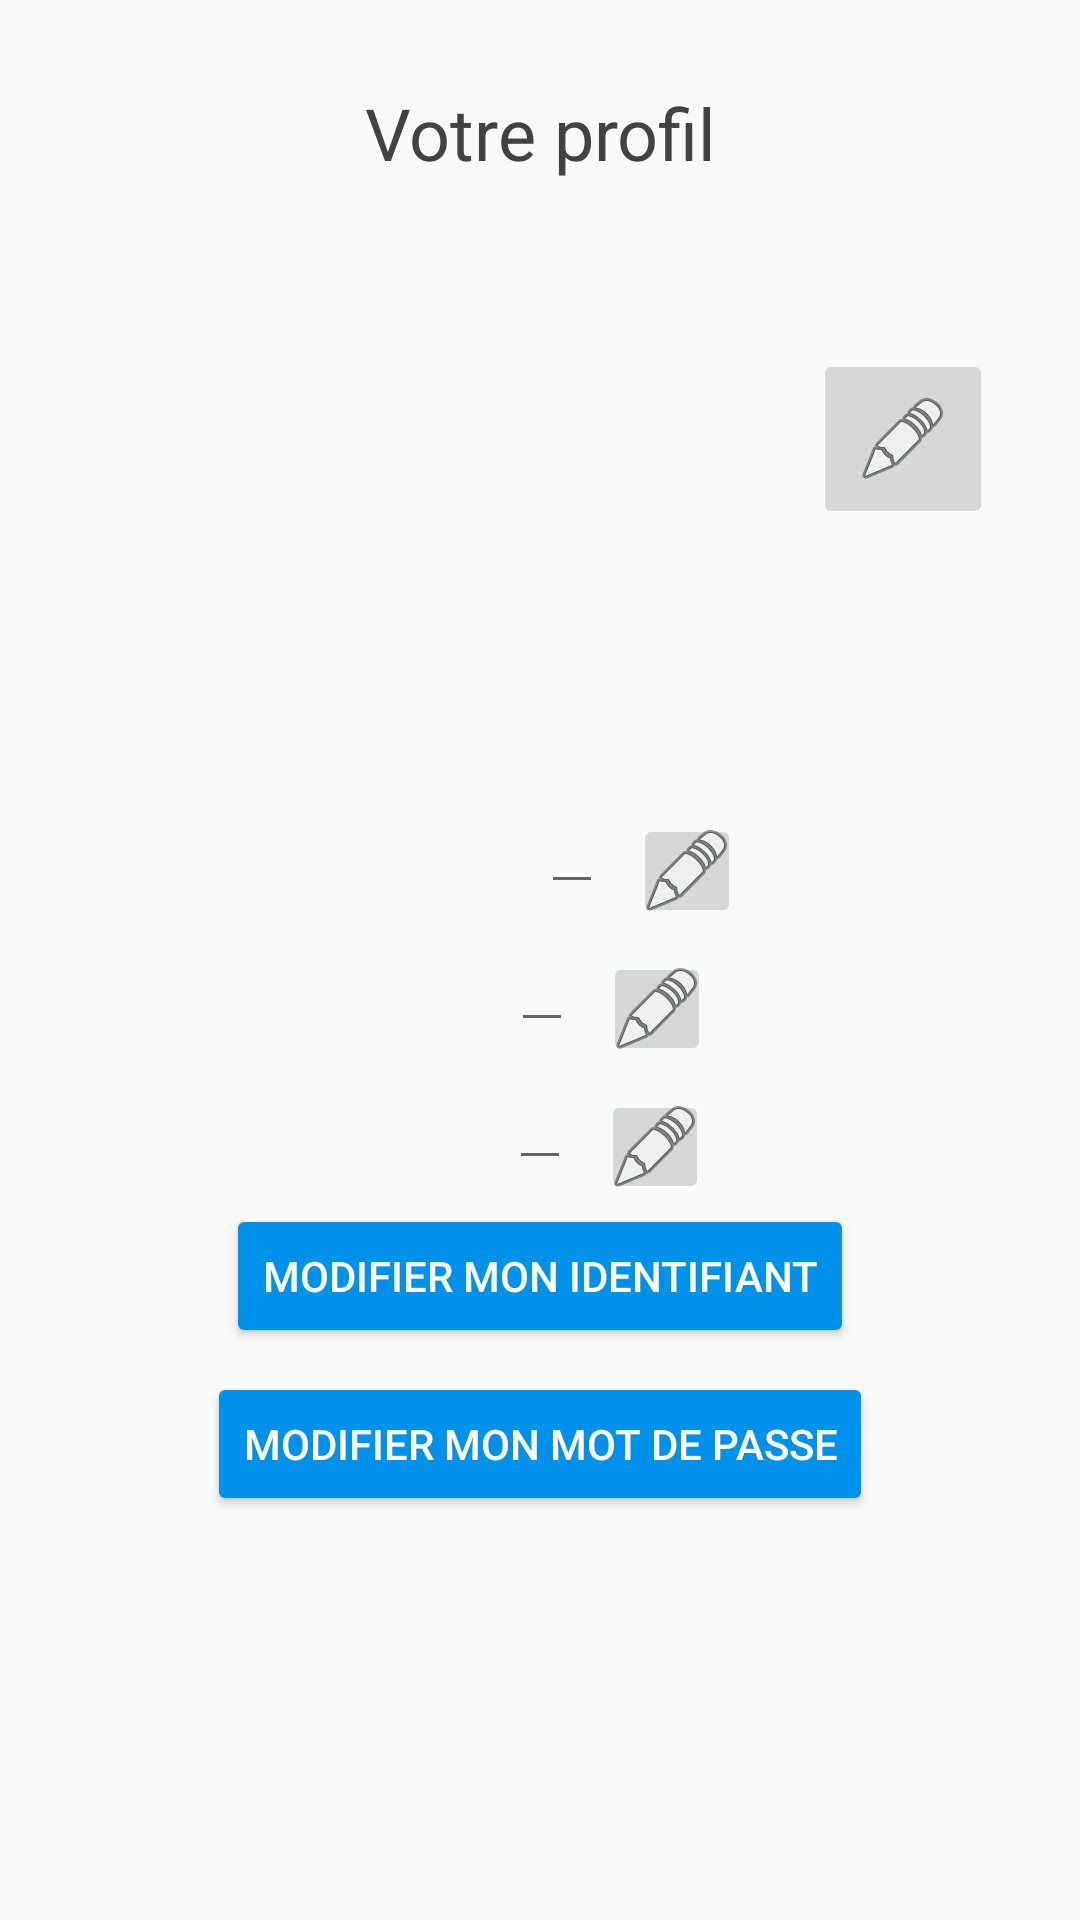

Locate icon controls on the screen. Image size 1080*1920, boxes as Rect(x1, y1, x2, y2).
edit: Rect(825, 367, 981, 511), Rect(645, 830, 729, 911), Rect(615, 968, 699, 1049), Rect(613, 1106, 697, 1187)
